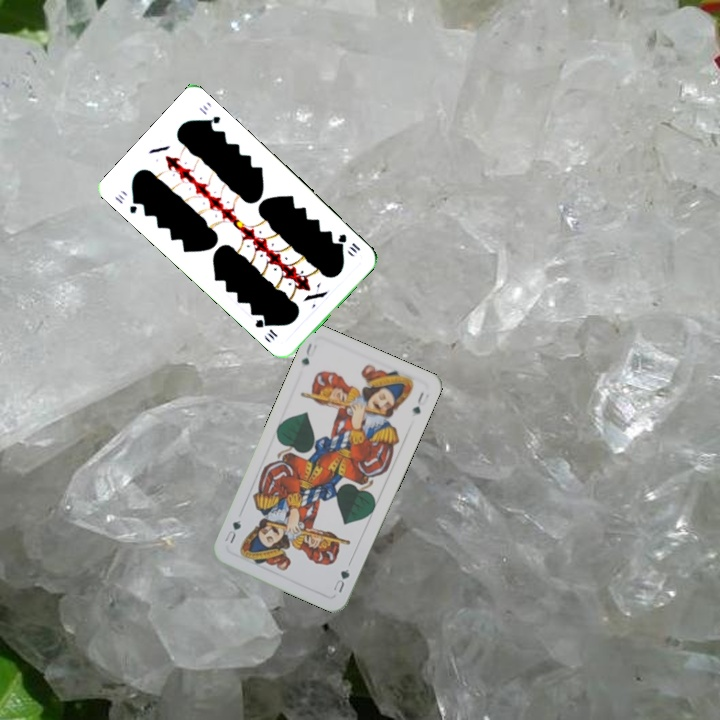G10: (110, 190, 142, 216), (334, 230, 363, 257)
GU: (329, 565, 352, 595), (297, 339, 320, 368)
